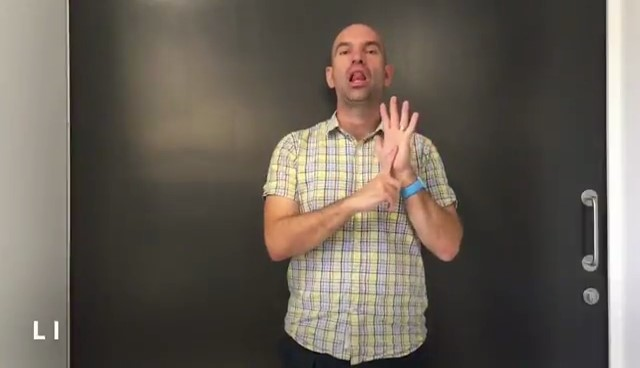L: (357, 89, 423, 221)
